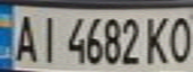2: (121, 14, 145, 66)
4: (63, 12, 87, 65)
6: (84, 14, 106, 65)
8: (103, 14, 124, 66)
A: (9, 10, 39, 63)
I: (33, 11, 60, 64)
K: (142, 12, 172, 65)
O: (163, 11, 193, 64)
